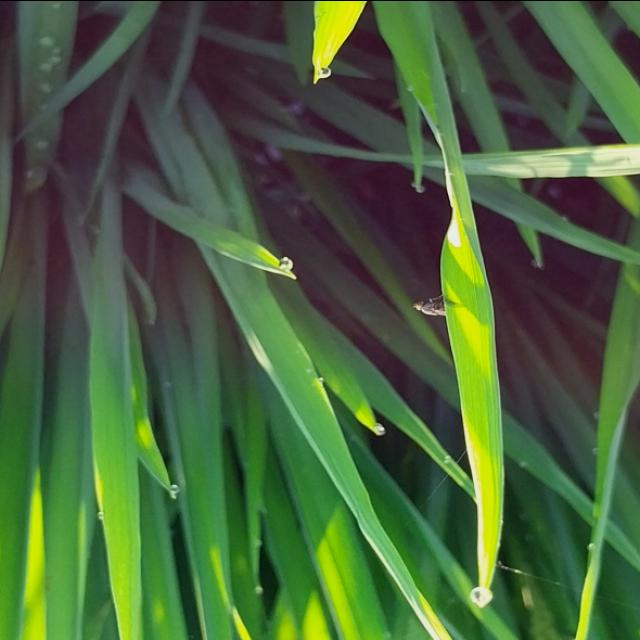healthy: (396, 274, 486, 336)
